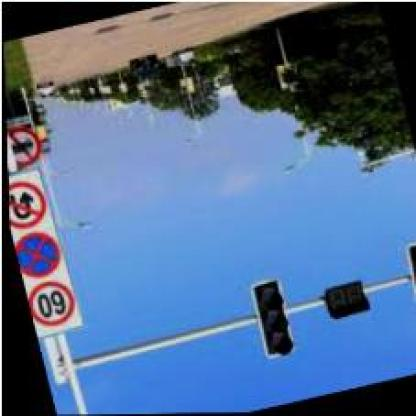green: (250, 282, 292, 356), (403, 241, 414, 320)
